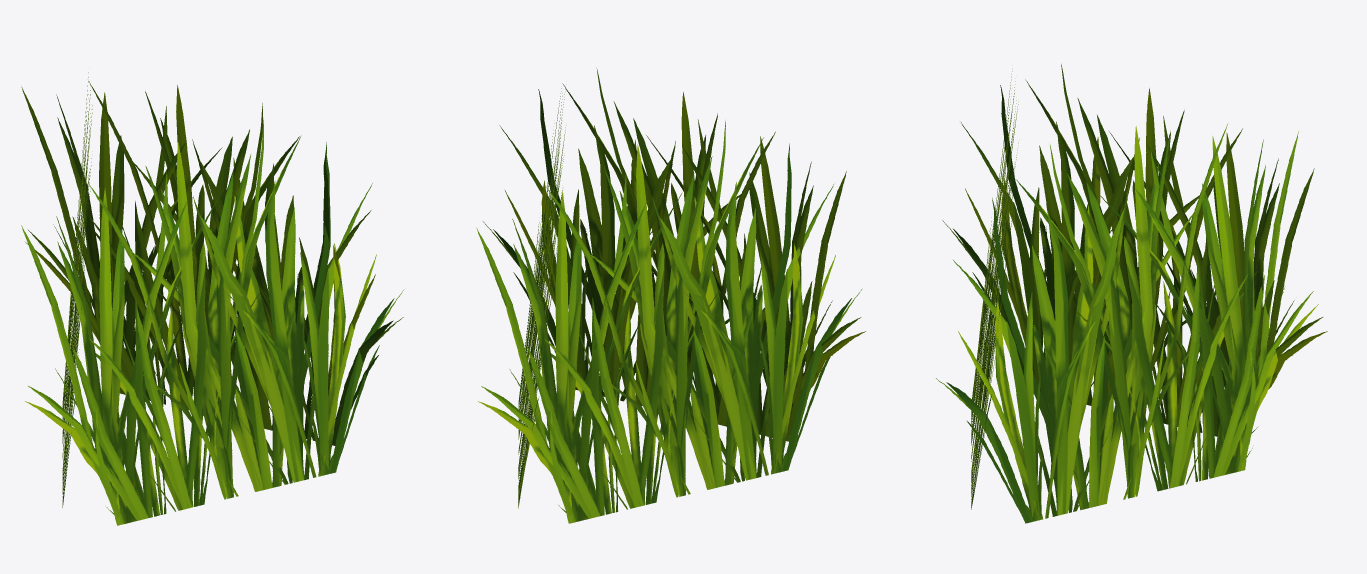
File: grass_test 1.fbx
3 views of the same model, side by side, from view 1: azimuth 30°, elevation 25°; view 2: azimuth 150°, elevation 25°; view 3: azimuth 270°, elevation 25° (orthographic).
Parts seen in each view (by area): view 1: polySurface3; view 2: polySurface3; view 3: polySurface3.
Part boxes in pixels (x1,y1,x2,y2): polySurface3: (21,72,403,525); polySurface3: (476,68,865,523); polySurface3: (936,64,1327,523).
Bounding box in the file's own units: 1.25 × 1 × 1.1.
Materials: 1 (1 with a texture image).
